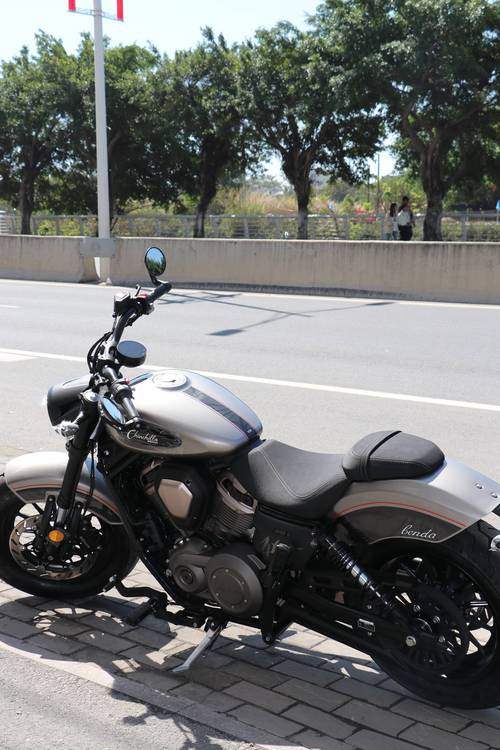摩托车: (1, 251, 500, 714)
